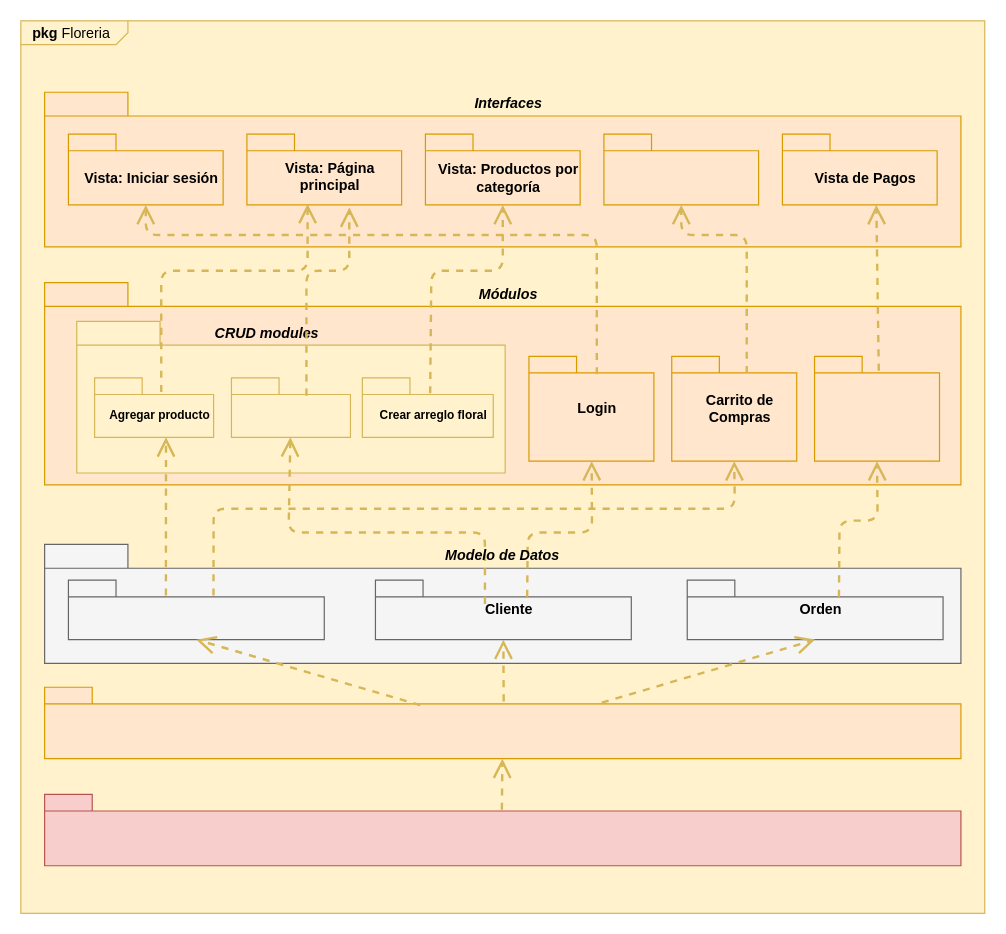
The diagram is 1006 pixels wide and 934 high, and some of its shapes have lost their labels. The centre of each missing label's shape, as x and y in pixels:
Checkout de Producto: the point at 876,408
Crear usuario: the point at 290,407
Database: the point at 502,829
Producto: the point at 195,609
Repositorio: the point at 502,722
Vista: Resumen de compra: the point at 681,169
